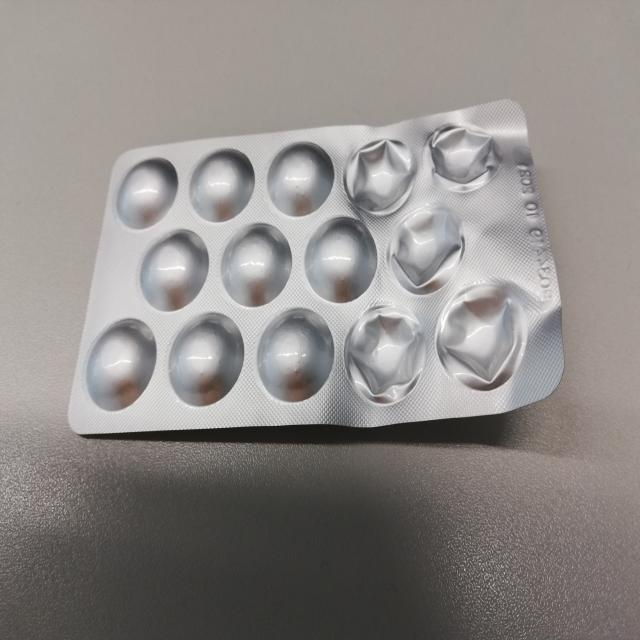Empty: (433, 281, 530, 393), (343, 305, 428, 407), (384, 200, 466, 298), (424, 117, 503, 196), (343, 135, 419, 215)
Pill: (254, 310, 336, 405), (167, 312, 244, 409), (85, 316, 157, 412), (304, 219, 378, 304), (219, 224, 293, 308), (139, 229, 211, 312), (265, 138, 335, 218), (188, 146, 255, 223), (115, 155, 178, 231)
